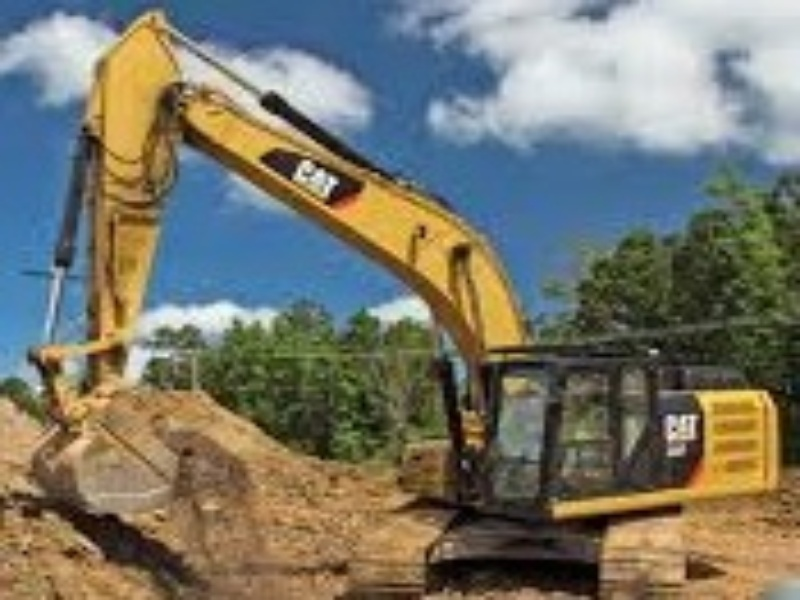wajueji: (346, 314, 800, 593)
